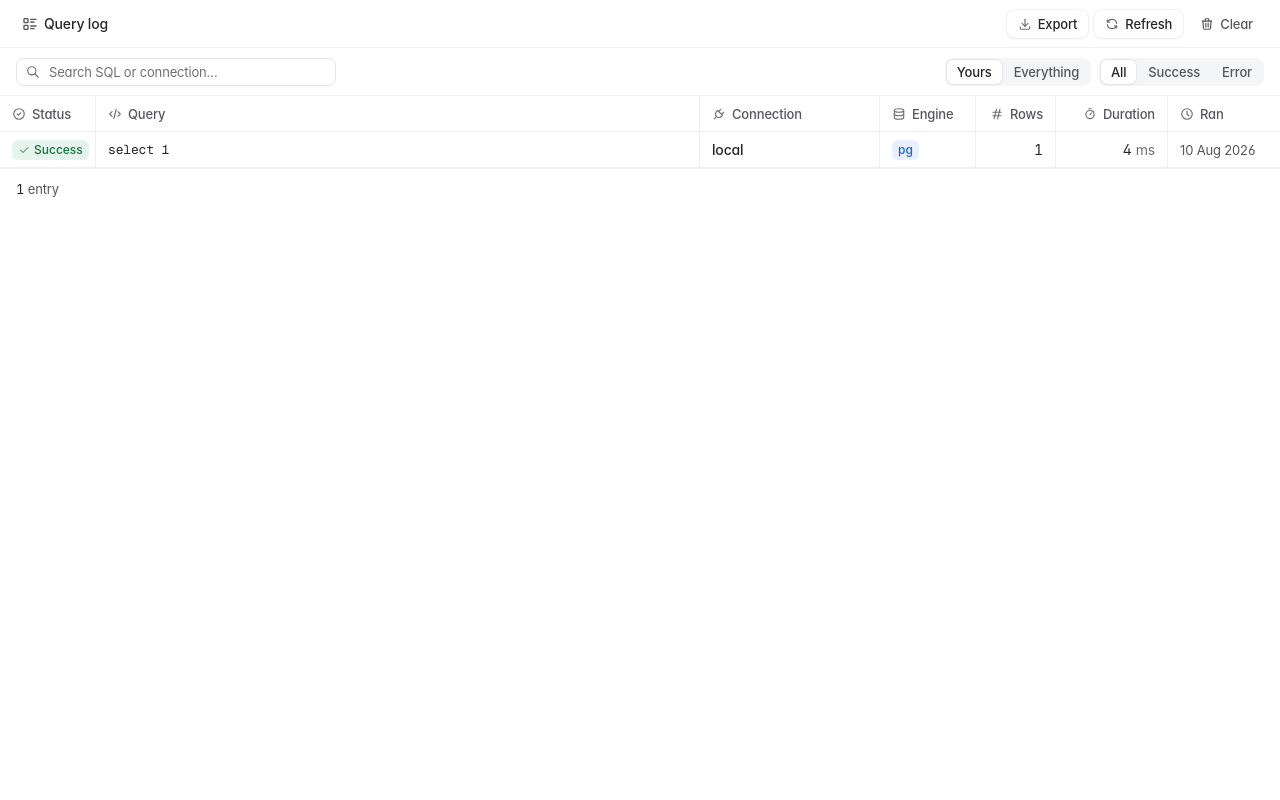
Scenario: clearing › reports a failure instead of leaving the dialog open in silence
This screenshot has width=1280, height=800.
Check: the text "select 1" is shown, box [108,140,169,158]
What coordinates should you click on to do the following:
click the button "Clear"
I would click on:
 (1227, 24)
Its box is [1189,10,1264,38].
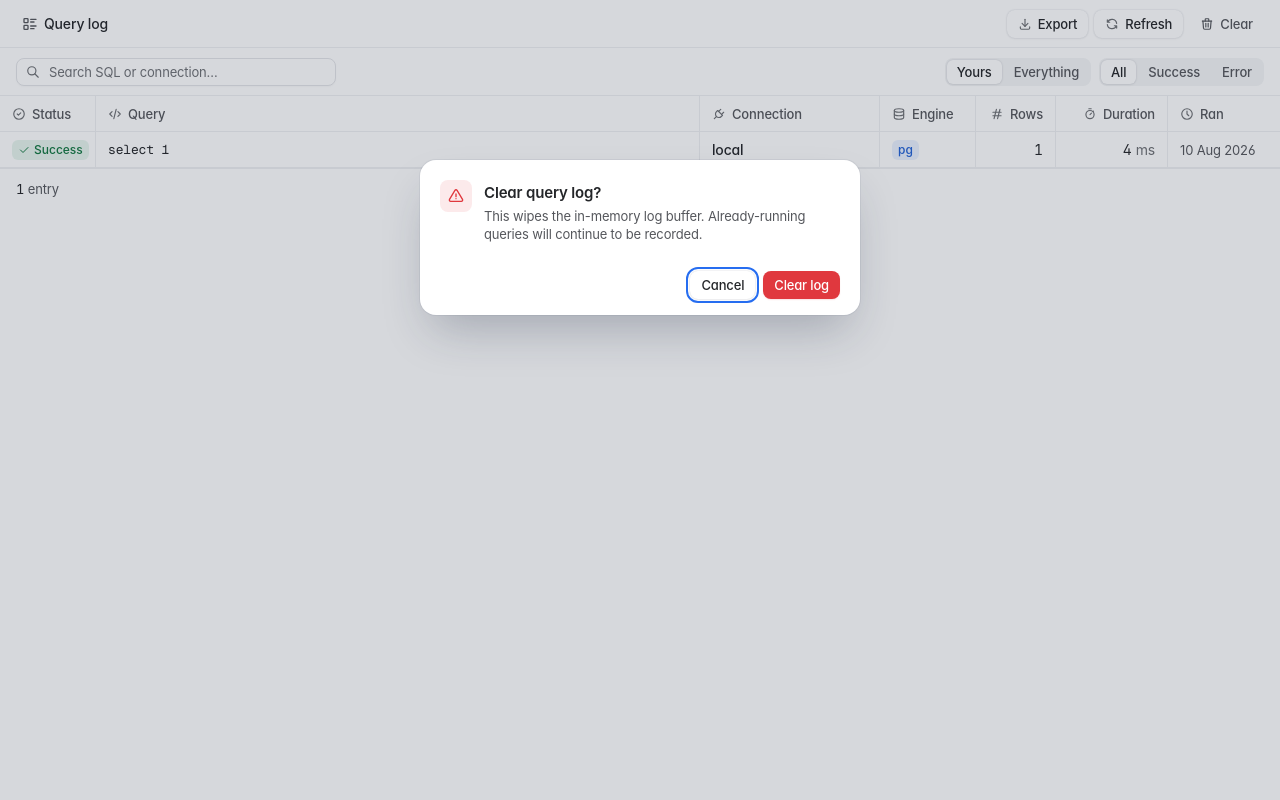
What coordinates should you click on to do the following:
click the button "Clear log"
I would click on:
 (802, 285)
Its box is [763,271,840,299].
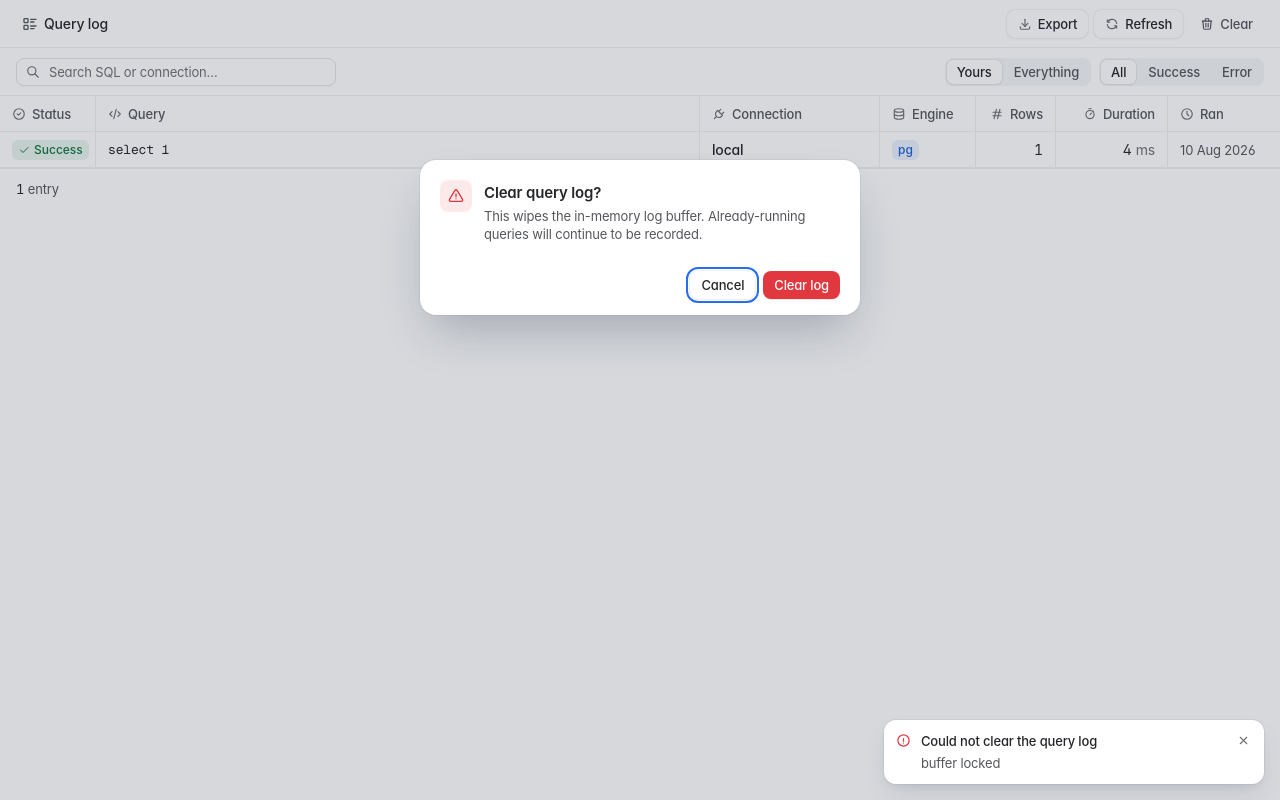
Check: the text "Could not clear the query log" is shown, box [921,732,1097,750]
Check: the text "buffer locked" is shown, box [921,755,1000,771]
